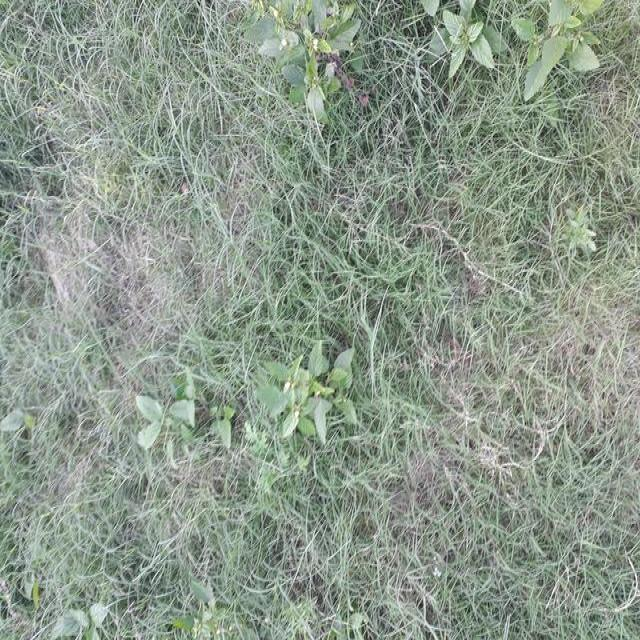weed: (255, 5, 352, 120), (270, 358, 370, 446), (516, 2, 598, 87), (128, 390, 198, 469), (427, 4, 492, 81)
